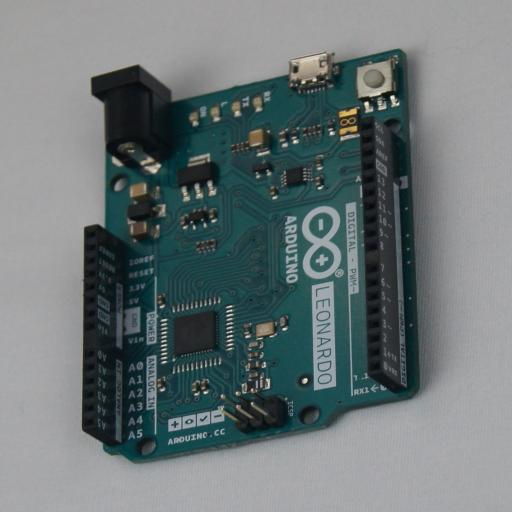Arduino Leonardo: (82, 48, 434, 464)
